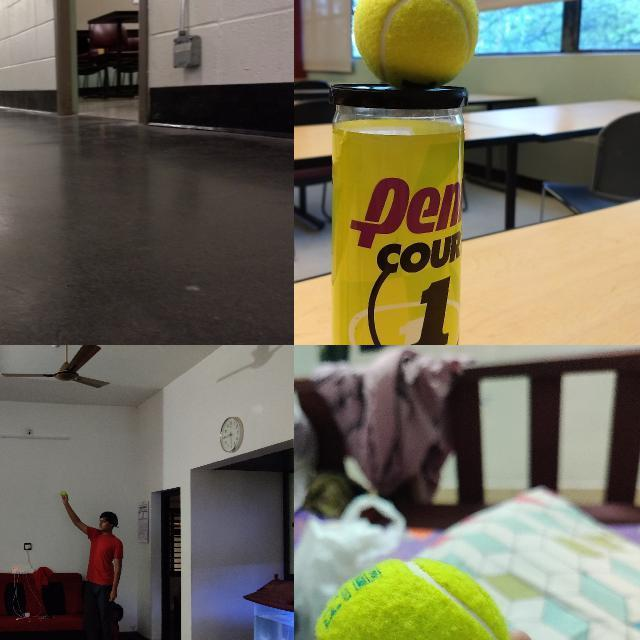tennis-ball: (305, 555, 513, 639), (351, 0, 481, 90), (60, 491, 66, 496)
